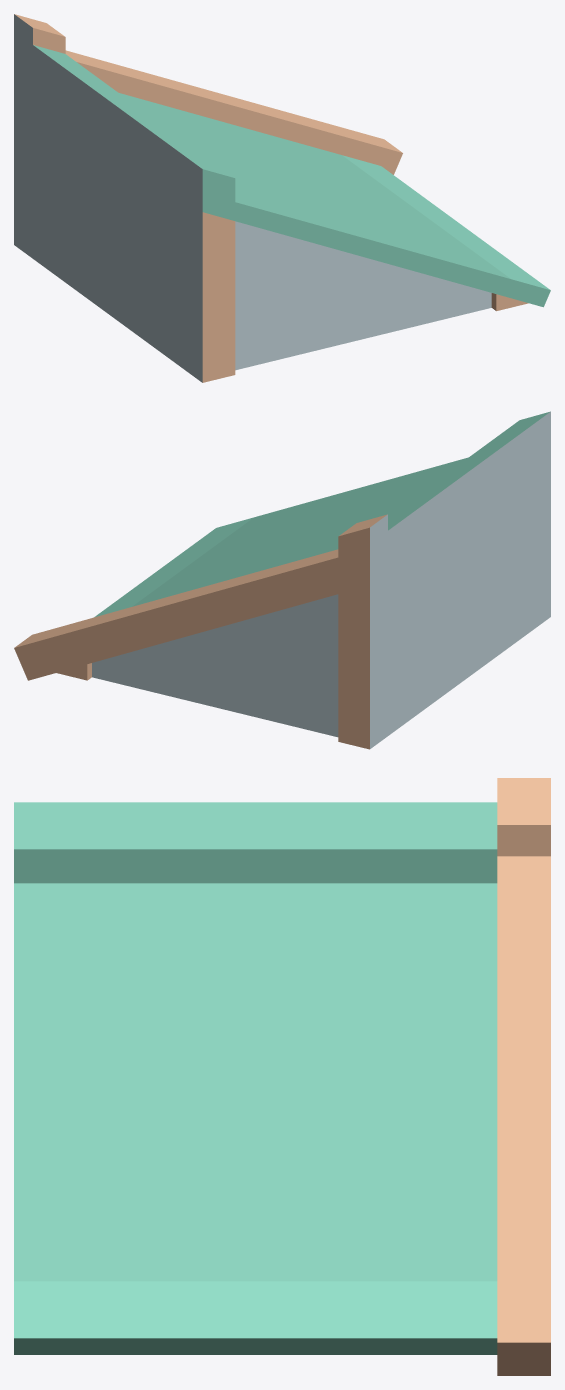
Rendered from roofRight.glb.
3 views of the same model, one above another, from view 1: azimuth 30°, elevation 25°; view 2: azimuth 150°, elevation 25°; view 3: azimuth 270°, elevation 25° (orthographic). The views are drawn at different scales.
Visible parts, largest first — view 1: roofRight; view 2: roofRight; view 3: roofRight.
Boxes of the visible parts, box(x1,y1,x2,y2) form: roofRight: box(14, 14, 550, 382); roofRight: box(14, 411, 550, 749); roofRight: box(14, 778, 550, 1375).
Bounding box in the file's own units: 1.13 × 0.7206 × 1.
